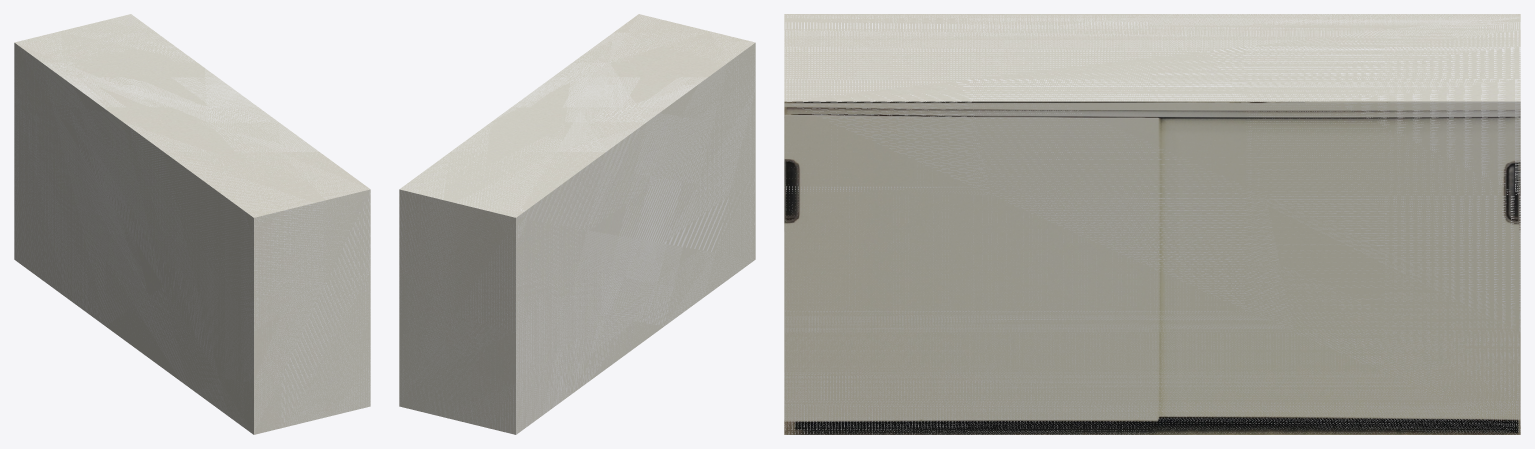
The model's file is cabinet_ikea_galant.dae.
3 views of the same model, side by side, from view 1: azimuth 30°, elevation 25°; view 2: azimuth 150°, elevation 25°; view 3: azimuth 270°, elevation 25° (orthographic). The views are drawn at different scales.
Parts seen in each view (by area): view 1: SketchUp; view 2: SketchUp; view 3: SketchUp (×2).
Boxes of the visible parts, x1,y1,x2,y2 form: SketchUp: [14, 14, 370, 434]; SketchUp: [399, 14, 755, 434]; SketchUp (×2): [784, 14, 1520, 434].
Size of the model in its own units: 0.4503 by 1.6 by 0.7996.
Materials: 3 (2 with a texture image).
